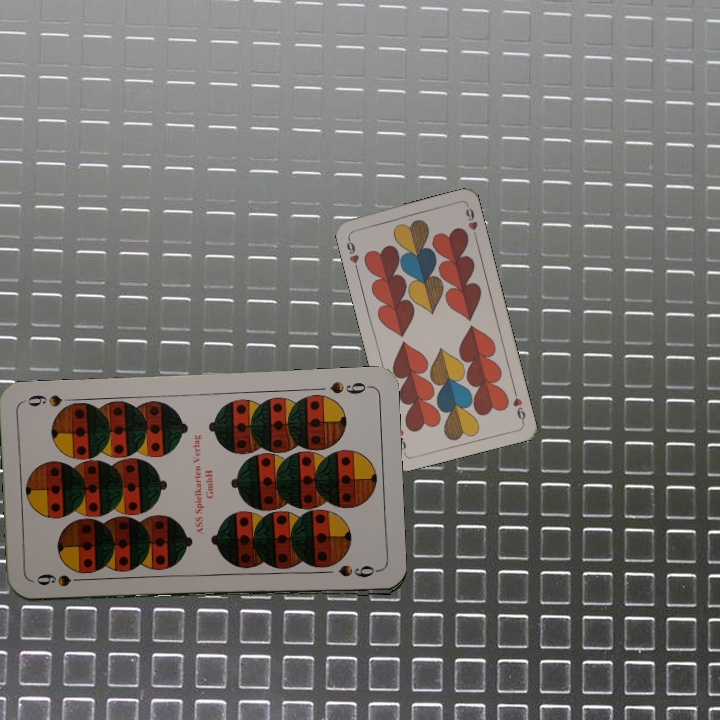H9: (509, 385, 528, 425), (342, 233, 361, 273)
S9: (32, 572, 90, 589), (326, 377, 372, 397)
